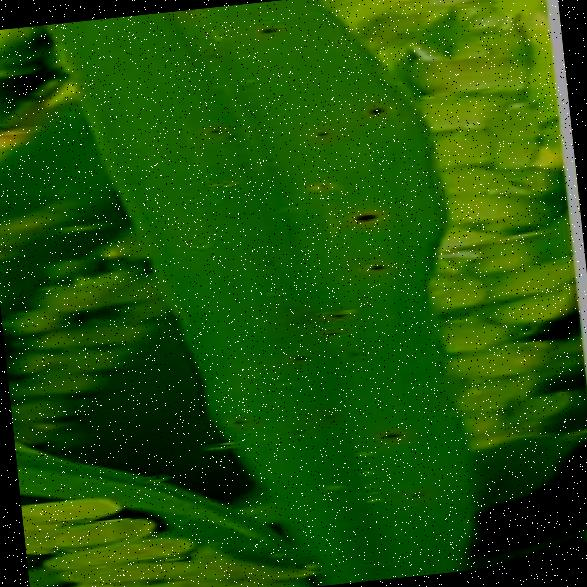Brown_Spot: (300, 167, 342, 198), (396, 480, 435, 513), (344, 200, 384, 229), (245, 14, 284, 40), (356, 250, 392, 277), (304, 118, 339, 144), (358, 95, 392, 120), (281, 341, 313, 367), (336, 339, 368, 365), (374, 419, 406, 444), (320, 300, 350, 326), (225, 404, 251, 433), (315, 402, 345, 427), (254, 248, 282, 272), (316, 316, 340, 342), (285, 420, 308, 442), (217, 126, 244, 144), (201, 120, 224, 140), (256, 158, 281, 176), (199, 42, 220, 63), (259, 148, 276, 163)
